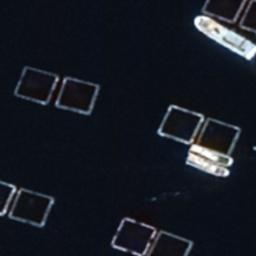square_solid: (192, 112, 244, 170), (153, 99, 210, 150), (9, 60, 65, 110), (50, 72, 105, 122), (7, 183, 59, 234), (108, 211, 162, 256), (196, 1, 253, 32), (144, 224, 199, 256), (1, 172, 24, 224), (232, 1, 256, 41)
